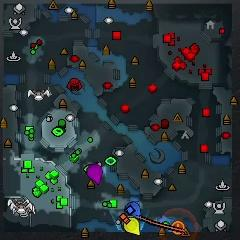Other: (172, 221, 185, 235)
p1: (125, 201, 141, 219)
p3: (87, 164, 103, 184)
p4: (123, 216, 141, 236)
